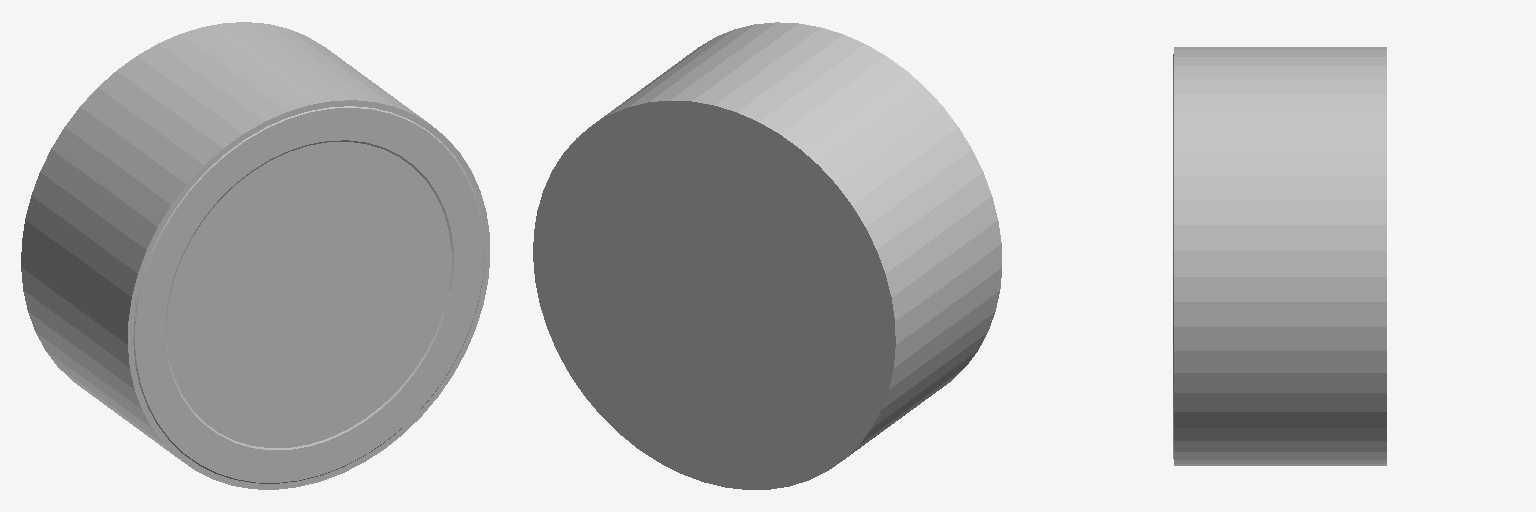
The model's file is tire.obj.
3 renders of one model, left to right at view 1: azimuth 30°, elevation 25°; view 2: azimuth 150°, elevation 25°; view 3: azimuth 270°, elevation 25°, orthographic.
Visible parts, largest first — view 1: Tire; view 2: Tire; view 3: Tire.
Part boxes in pixels (x1,y1,x2,y2): Tire: (21,22,489,489); Tire: (533,22,1001,489); Tire: (1173,47,1386,465).
Bounding box in the file's own units: 1.7 × 1.7 × 0.8701.